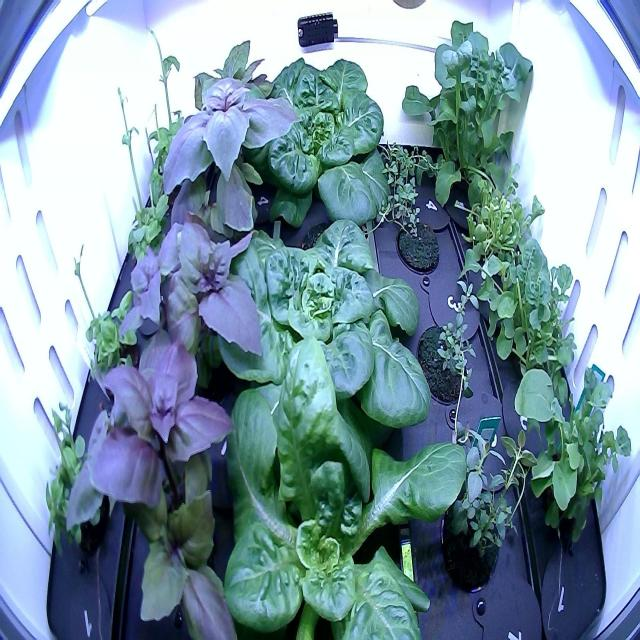Ready: (173, 332, 475, 640), (196, 209, 433, 452), (232, 43, 398, 236)
